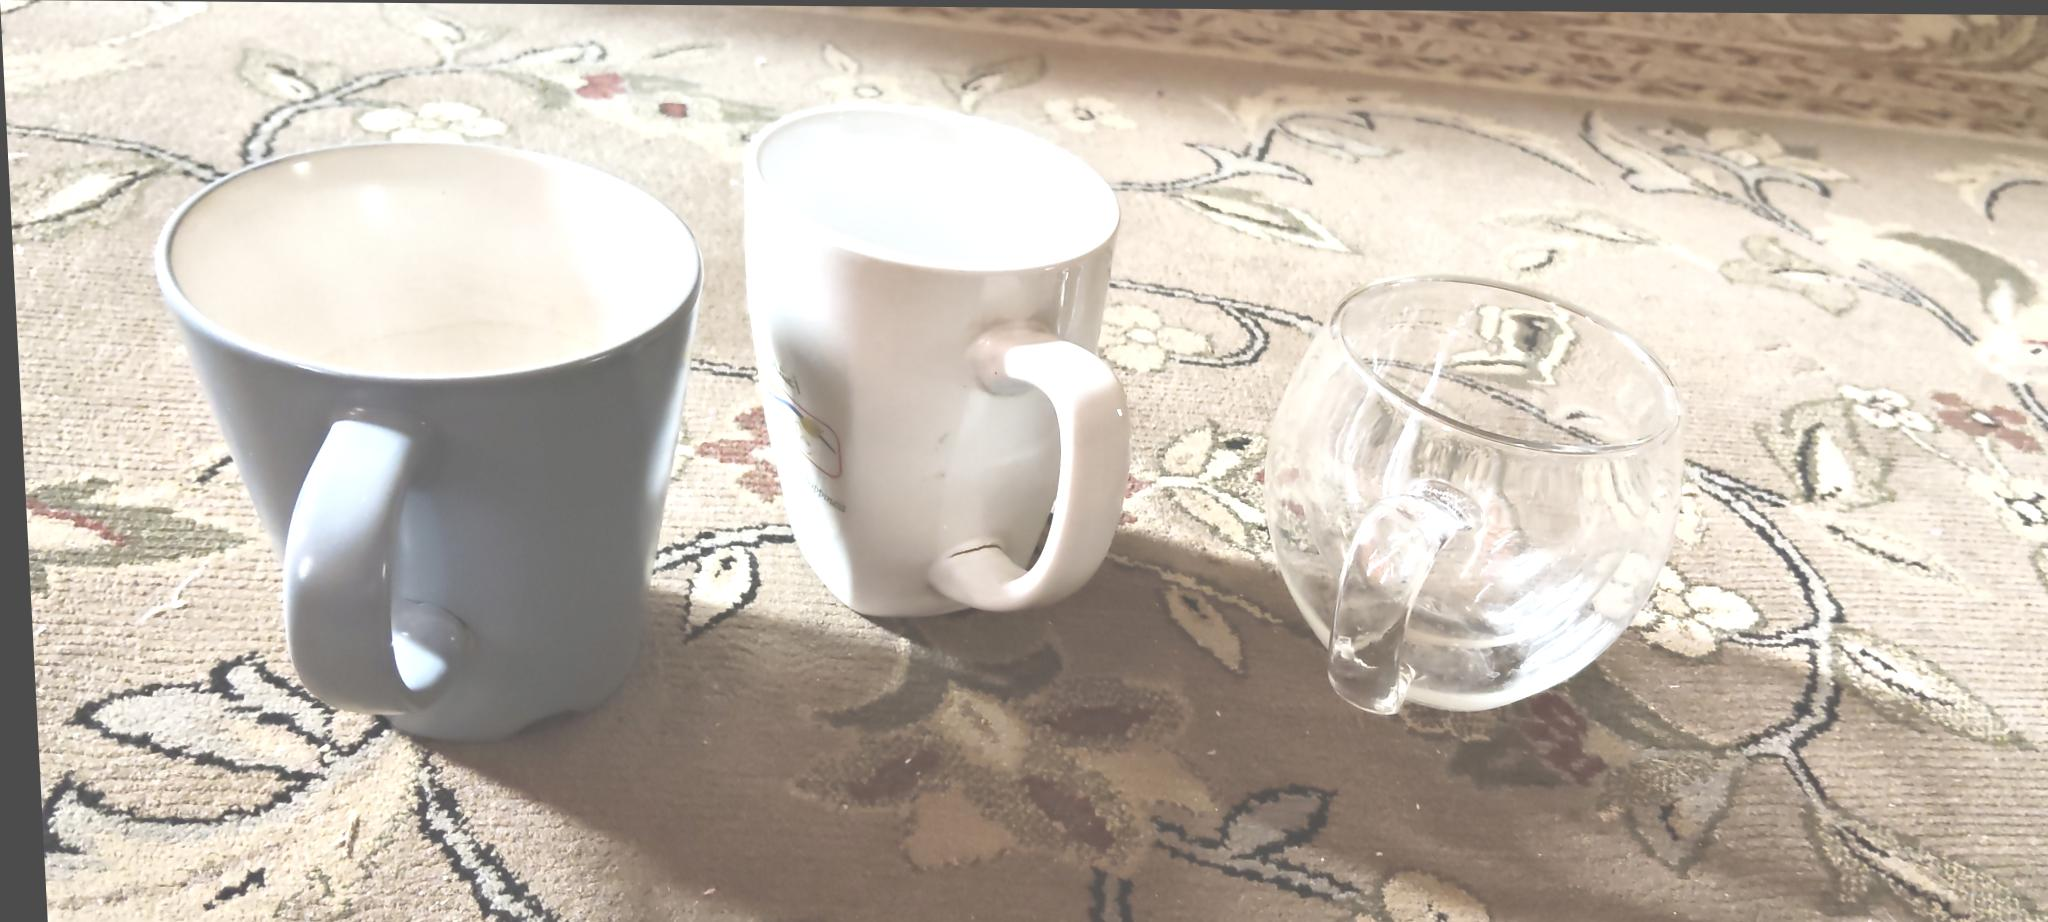Mug: (150, 139, 726, 741), (730, 100, 1139, 619), (1250, 274, 1707, 718)
